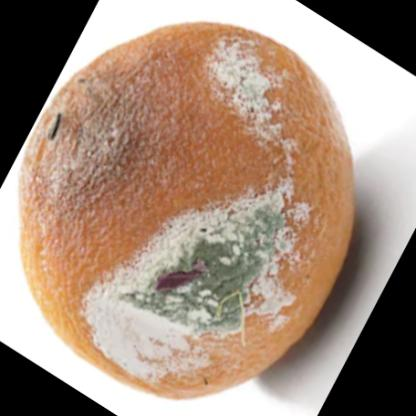rotten: (19, 23, 354, 394)
